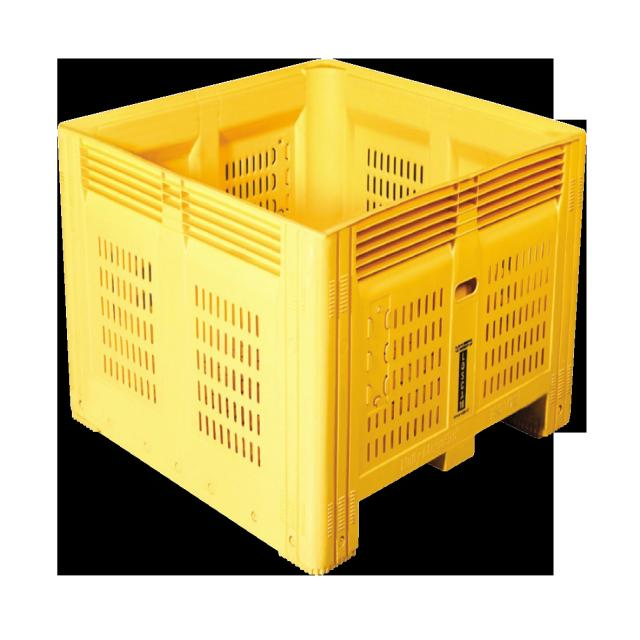basket: (56, 52, 599, 582)
